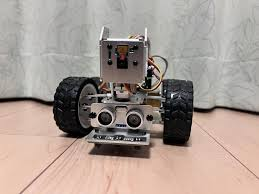vehicle: (51, 25, 195, 149)
